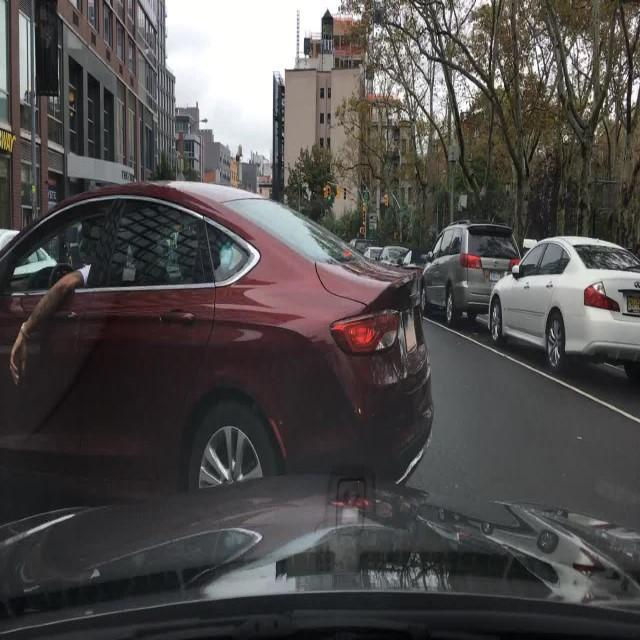normal: (4, 171, 438, 586), (489, 236, 640, 383), (420, 221, 525, 330)
